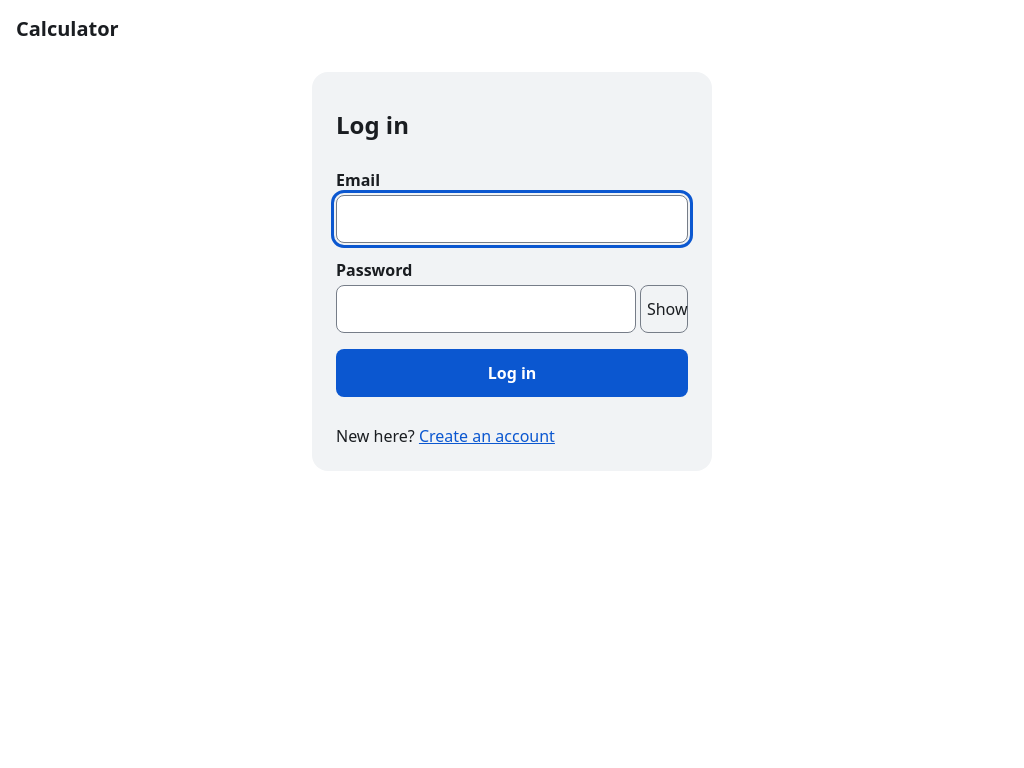
#3 AC1: an account is always required › returns to the requested app path after logging in
The width and height of the screenshot is (1024, 768).
Expected: the heading "Log in" is shown, x1=336 y1=108 x2=409 y2=141
Type "ana@example.com" into the field labelled "Email" at (512, 219), box x1=336 y1=195 x2=688 y2=243
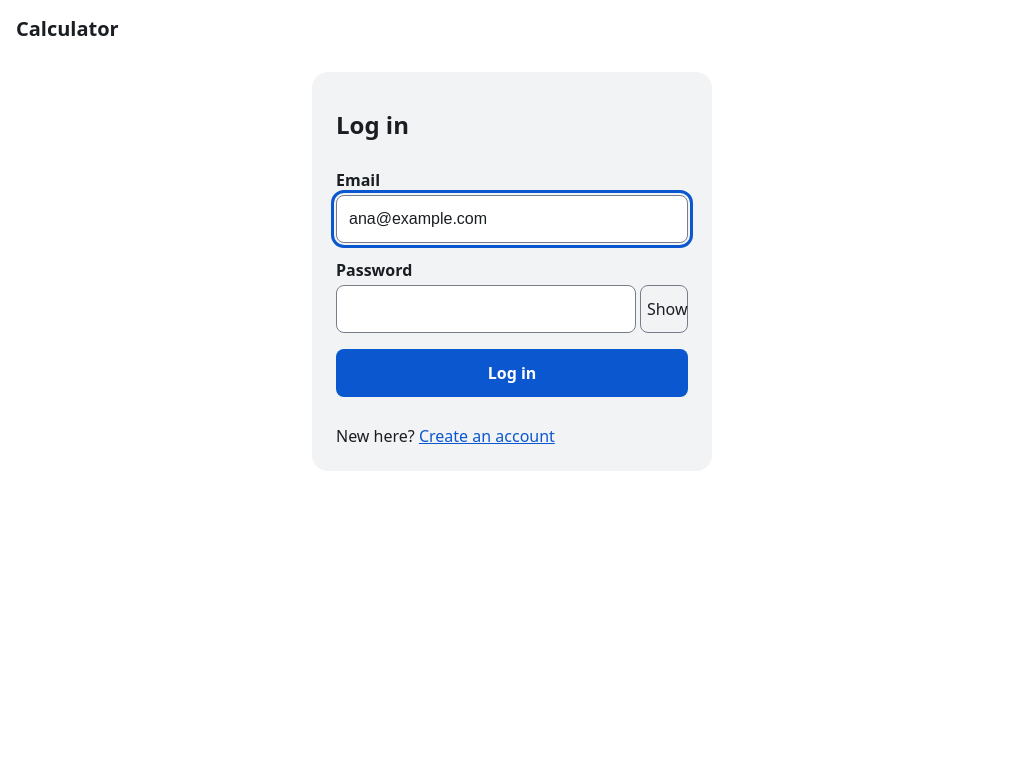
Type "correct horse battery" into the password field labelled "Password" at (486, 309), box x1=336 y1=285 x2=636 y2=333
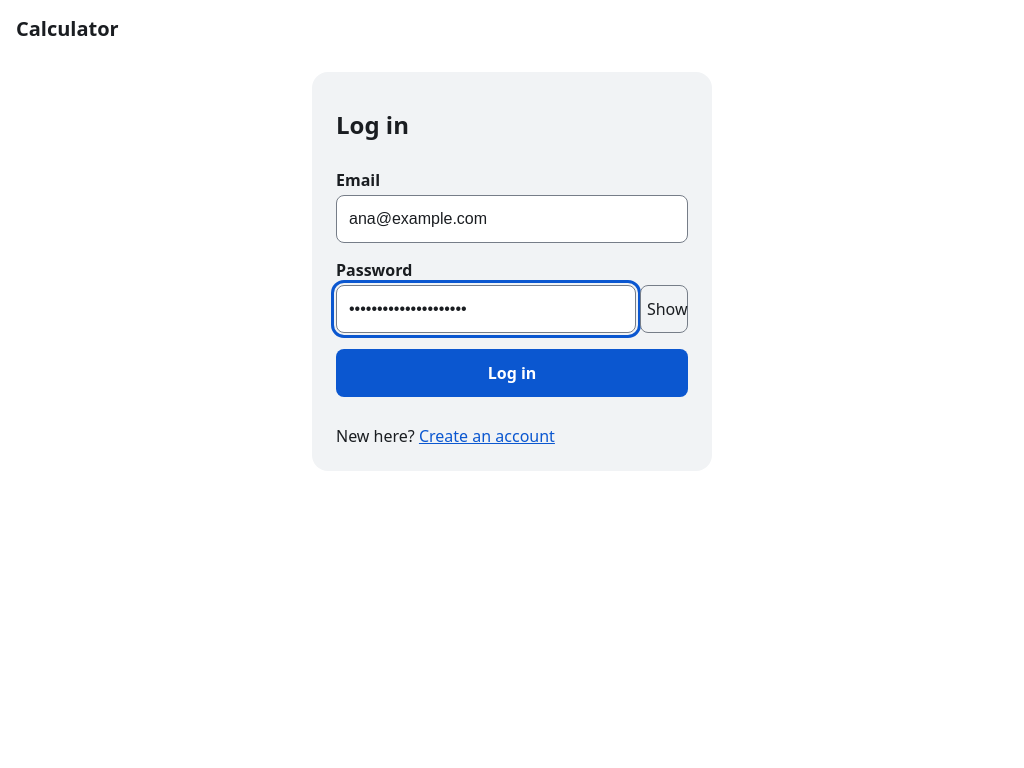
Click the button "Log in" at (512, 373), box x1=336 y1=349 x2=688 y2=397
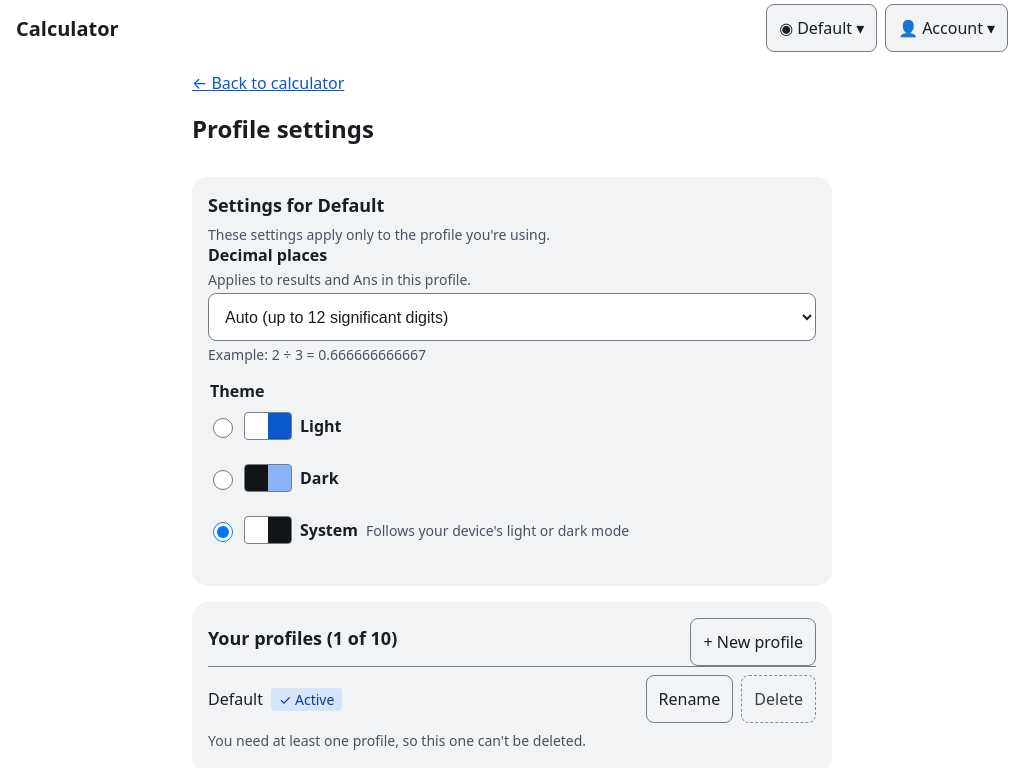
Expected: the heading "Profile settings" is shown, x1=192 y1=112 x2=374 y2=145
